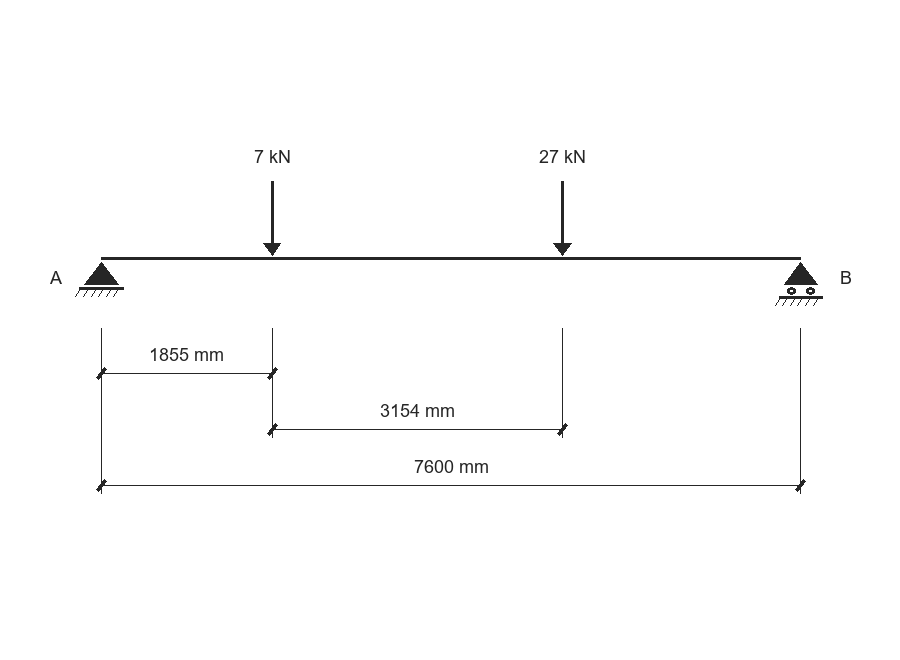pin_support: (75, 262, 124, 297)
point_load: (553, 181, 572, 256), (263, 181, 281, 256)
roller_support: (775, 262, 823, 306)
